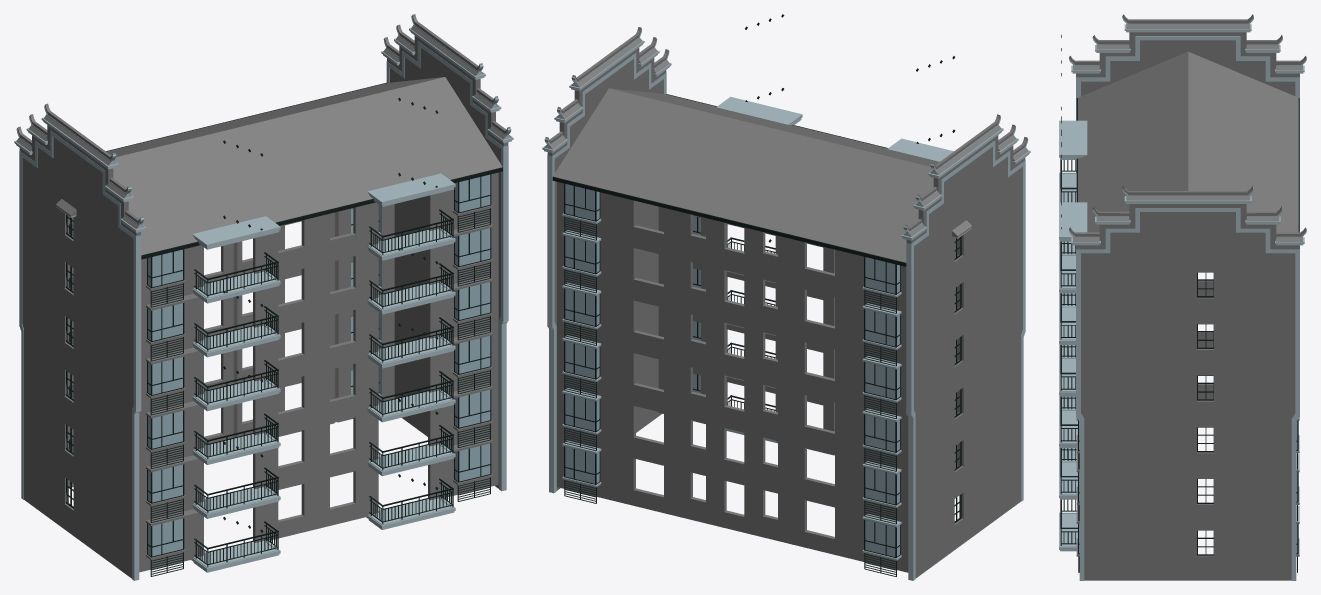
The model's file is zhongshi.FBX.
The picture shows the model from 3 angles, left to right: view 1: azimuth 30°, elevation 25°; view 2: azimuth 150°, elevation 25°; view 3: azimuth 270°, elevation 25°; orthographic projection. The views are drawn at different scales.
Visible parts, largest first — view 1: Layer:古建筑墙边01, Layer:建筑02, Layer:WALL55, Layer:WALL, Layer:WALL49, Layer:WALL61, Layer:WALL67, Layer:古建筑墙边07, Layer:WALL73, Layer:古建筑墙边02, Layer:古建筑墙边06, Layer:3T_GLASS23 (+40 smaller); view 2: Layer:古建筑墙边01, Layer:建筑02, Layer:WALL55, Layer:WALL49, Layer:WALL, Layer:WALL61, Layer:WALL67, Layer:WALL73, Layer:古建筑墙边07, Layer:古建筑墙边02, Layer:古建筑墙边06, Layer:3T_GLASS13 (+15 smaller); view 3: Layer:古建筑墙边07, Layer:建筑02, Layer:古建筑墙边06, Layer:古建筑墙边01, Layer:古建筑墙边02, Layer:古建筑墙边08, Layer:古建筑墙边05, Rectangle173, Rectangle171, Rectangle87, Rectangle100, Rectangle113 (+13 smaller).
Boxes of the visible parts, left/top/right/bottom form: Layer:古建筑墙边01: left=22, top=137, right=133, bottom=578; Layer:建筑02: left=106, top=77, right=501, bottom=255; Layer:WALL55: left=64, top=257, right=498, bottom=464; Layer:WALL: left=64, top=365, right=498, bottom=572; Layer:WALL49: left=64, top=311, right=498, bottom=518; Layer:WALL61: left=64, top=204, right=498, bottom=410; Layer:WALL67: left=64, top=215, right=498, bottom=356; Layer:古建筑墙边07: left=389, top=47, right=500, bottom=488; Layer:WALL73: left=64, top=172, right=498, bottom=302; Layer:古建筑墙边02: left=19, top=130, right=141, bottom=580; Layer:古建筑墙边06: left=386, top=41, right=508, bottom=491; Layer:3T_GLASS23: left=69, top=205, right=490, bottom=394; Layer:古建筑墙边01: left=914, top=147, right=1022, bottom=578; Layer:建筑02: left=553, top=88, right=939, bottom=262; Layer:WALL55: left=557, top=255, right=962, bottom=467; Layer:WALL49: left=557, top=307, right=962, bottom=519; Layer:WALL: left=557, top=360, right=962, bottom=572; Layer:WALL61: left=557, top=206, right=962, bottom=414; Layer:WALL67: left=557, top=224, right=962, bottom=361; Layer:WALL73: left=557, top=182, right=962, bottom=308; Layer:古建筑墙边07: left=554, top=59, right=663, bottom=490; Layer:古建筑墙边02: left=906, top=140, right=1025, bottom=580; Layer:古建筑墙边06: left=547, top=53, right=666, bottom=493; Layer:3T_GLASS13: left=565, top=268, right=899, bottom=451; Layer:古建筑墙边07: left=1081, top=212, right=1295, bottom=580; Layer:建筑02: left=1078, top=51, right=1298, bottom=232; Layer:古建筑墙边06: left=1076, top=208, right=1299, bottom=580; Layer:古建筑墙边01: left=1081, top=40, right=1295, bottom=399; Layer:古建筑墙边02: left=1076, top=36, right=1299, bottom=231; Layer:古建筑墙边08: left=1076, top=204, right=1299, bottom=249; Layer:古建筑墙边05: left=1076, top=32, right=1299, bottom=77; Rectangle173: left=1059, top=120, right=1087, bottom=157; Rectangle171: left=1059, top=202, right=1087, bottom=239; Rectangle87: left=1059, top=512, right=1077, bottom=549; Rectangle100: left=1059, top=461, right=1077, bottom=498; Rectangle113: left=1059, top=409, right=1077, bottom=446.
Bounding box in the file's own units: 22200 × 23834 × 13060.
